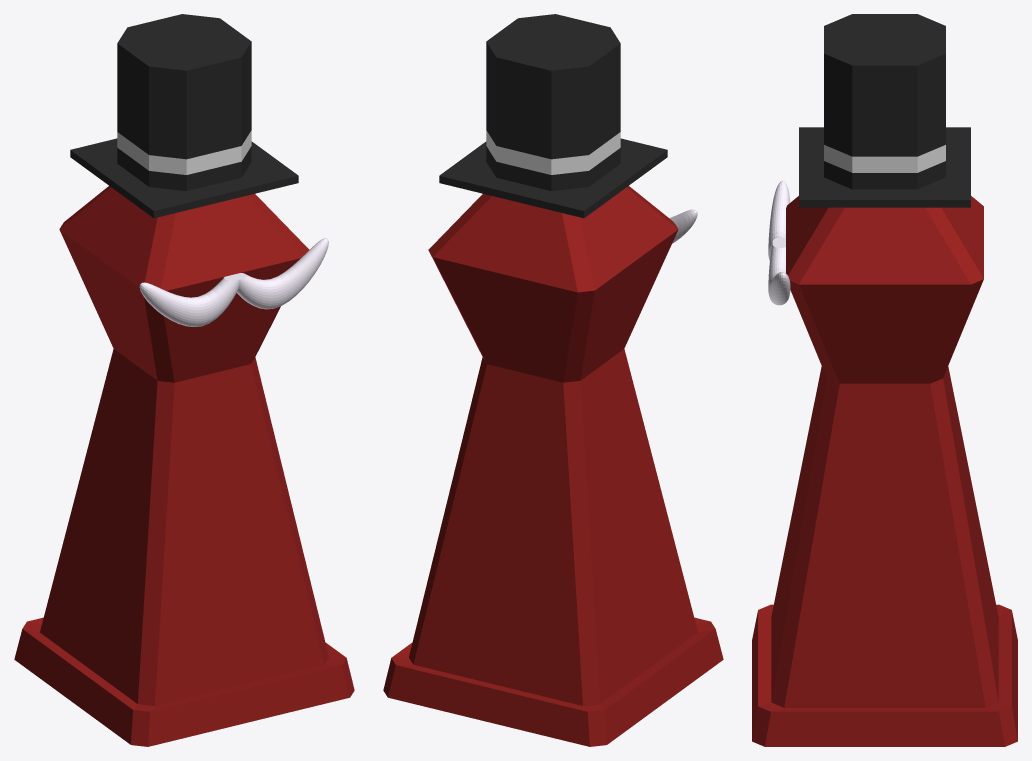
The model's file is FichaAzar.fbx.
The picture shows the model from 3 angles, left to right: view 1: azimuth 30°, elevation 25°; view 2: azimuth 150°, elevation 25°; view 3: azimuth 270°, elevation 25°; orthographic projection. The views are drawn at different scales.
Parts seen in each view (by area): view 1: Azar; view 2: Azar; view 3: Azar.
Part boxes in pixels (bbox=[...]): Azar: bbox=[14, 14, 354, 746]; Azar: bbox=[383, 14, 723, 746]; Azar: bbox=[752, 14, 1017, 746].
Size of the model in its own units: 14.57 by 39.36 by 14.57.
